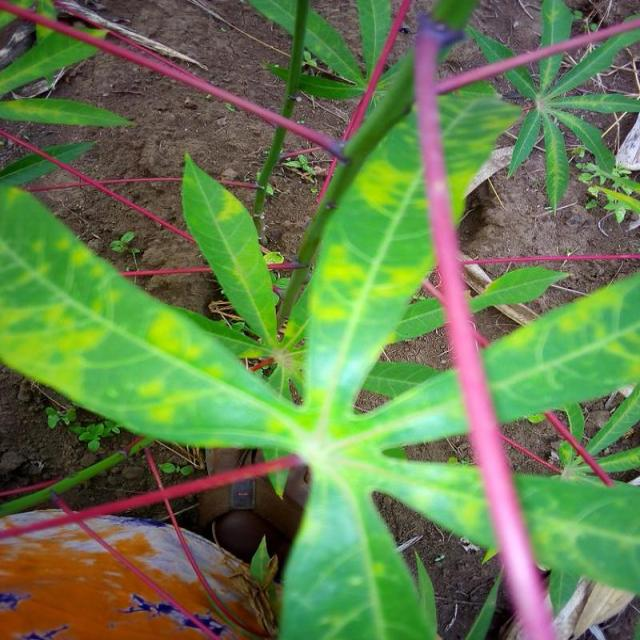cassava leaf: (2, 54, 639, 637), (286, 75, 523, 414), (181, 150, 281, 348)
